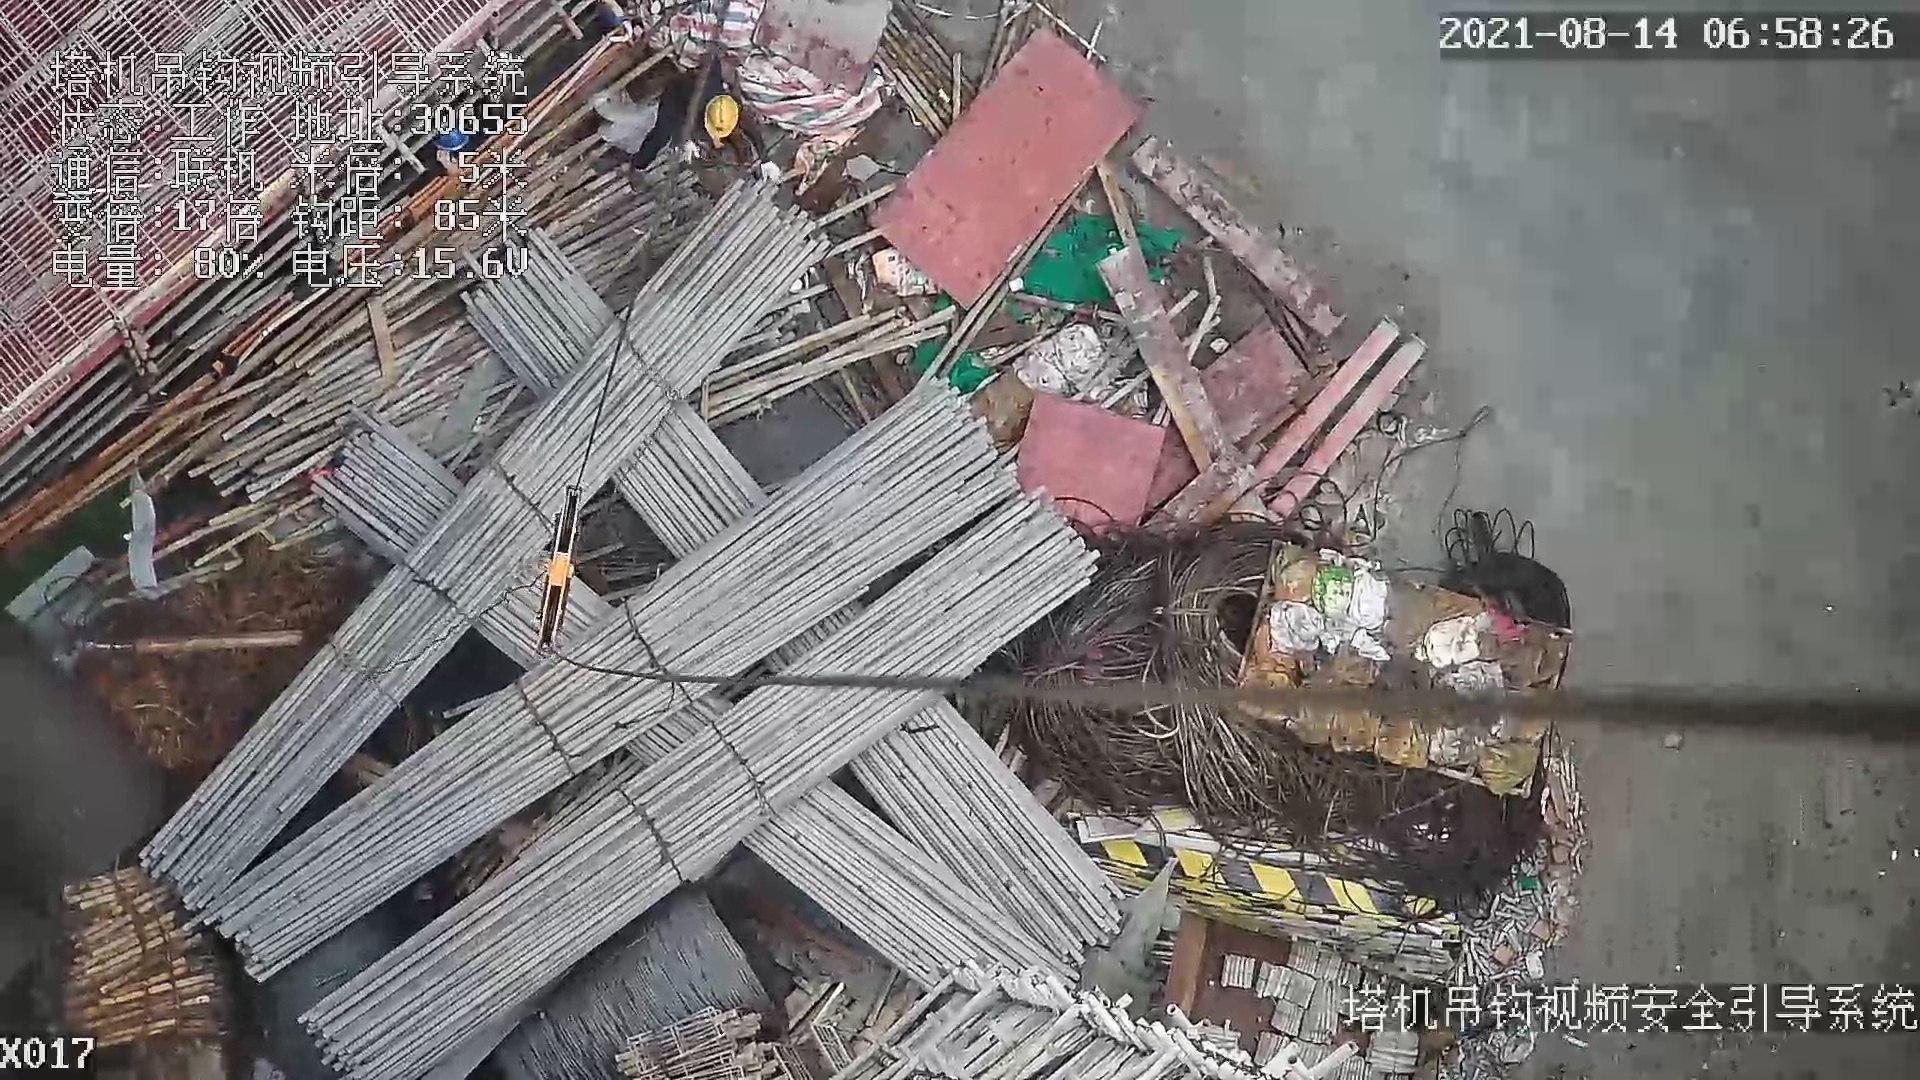helmet: (704, 94, 739, 138)
hook: (535, 482, 586, 659)
person: (642, 82, 785, 189)
rebar: (138, 185, 832, 907), (201, 380, 1015, 988), (297, 496, 1094, 1079), (743, 777, 1081, 987), (850, 699, 1119, 960)
scaffold: (58, 864, 239, 1047)
